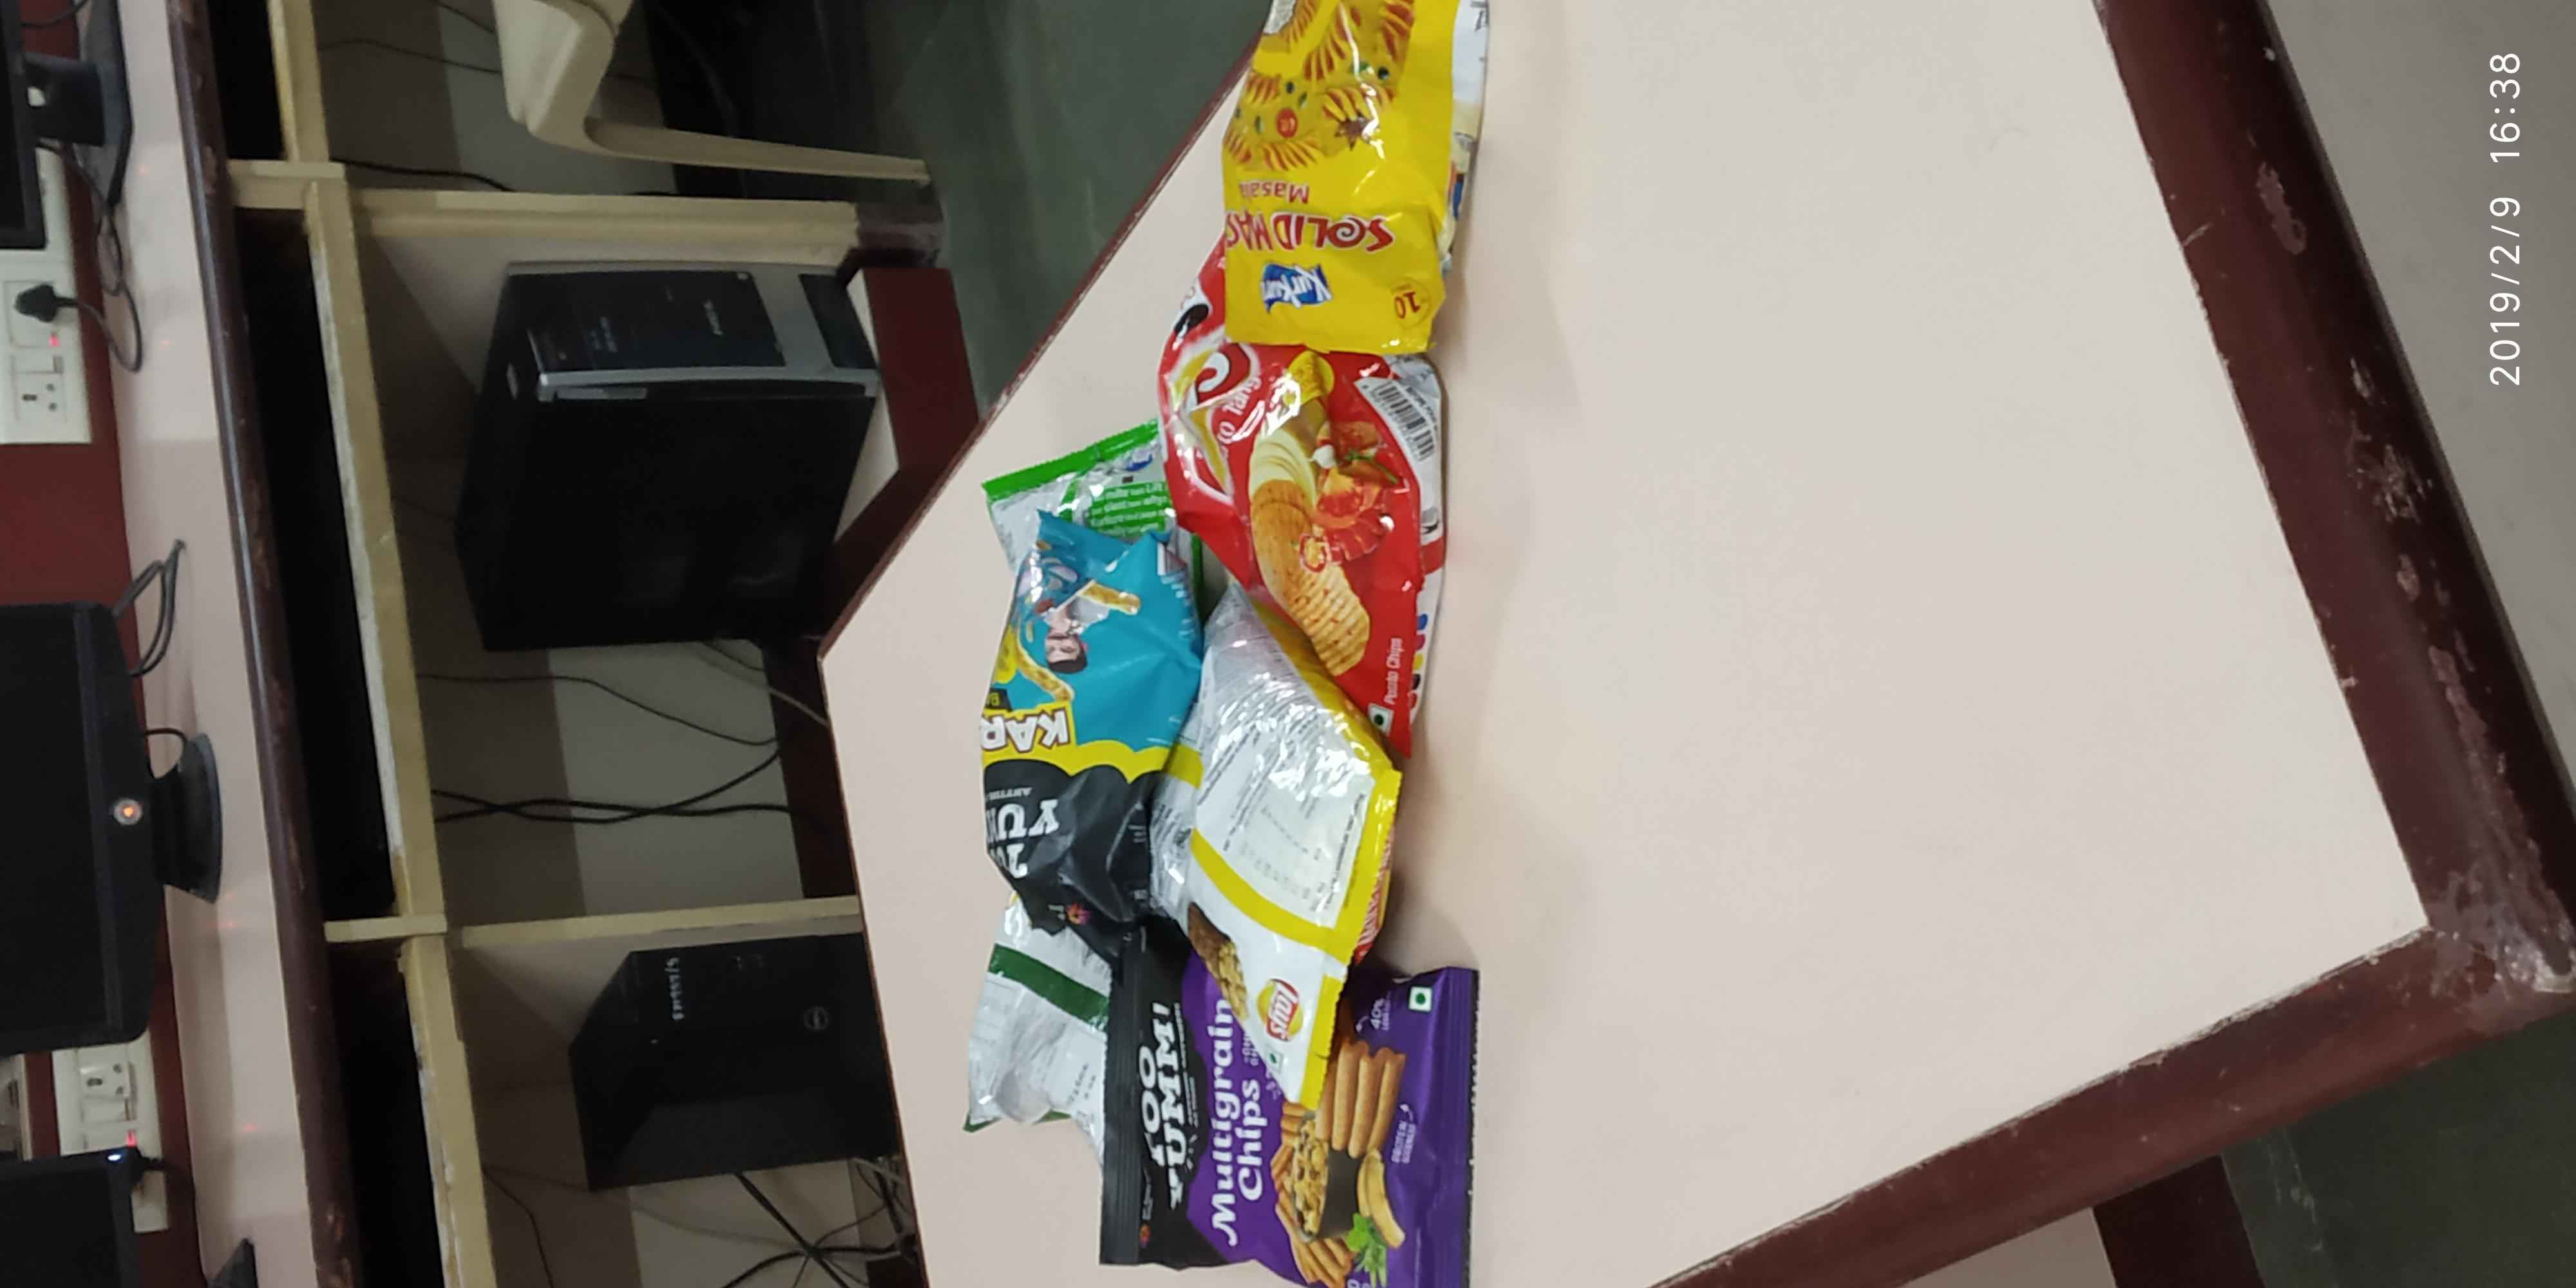Lays: (1171, 325, 1252, 527), (1252, 958, 1334, 1069)
kurkure: (1232, 253, 1344, 317)
tooyumm: (1119, 984, 1221, 1196), (984, 785, 1083, 894)
